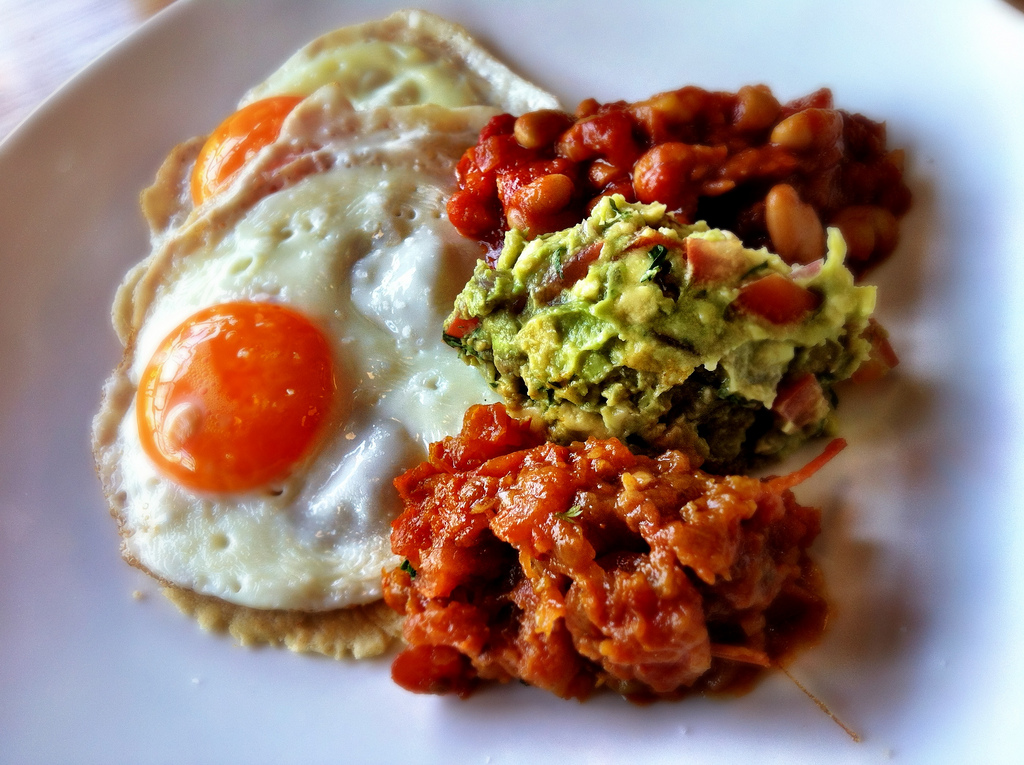fried egg: (95, 17, 507, 595)
